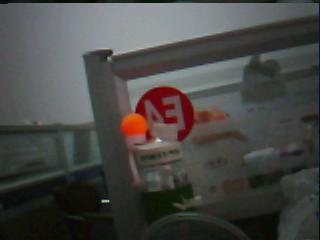oball: (120, 113, 147, 136)
